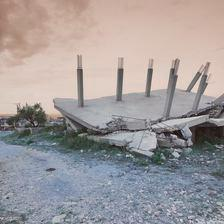Destroyed_Building: (48, 38, 224, 168)
